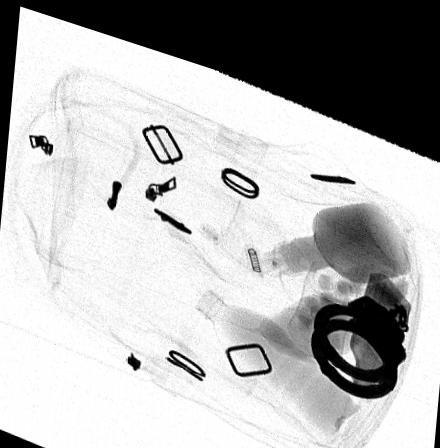HandCuffs: (309, 272, 409, 374)
